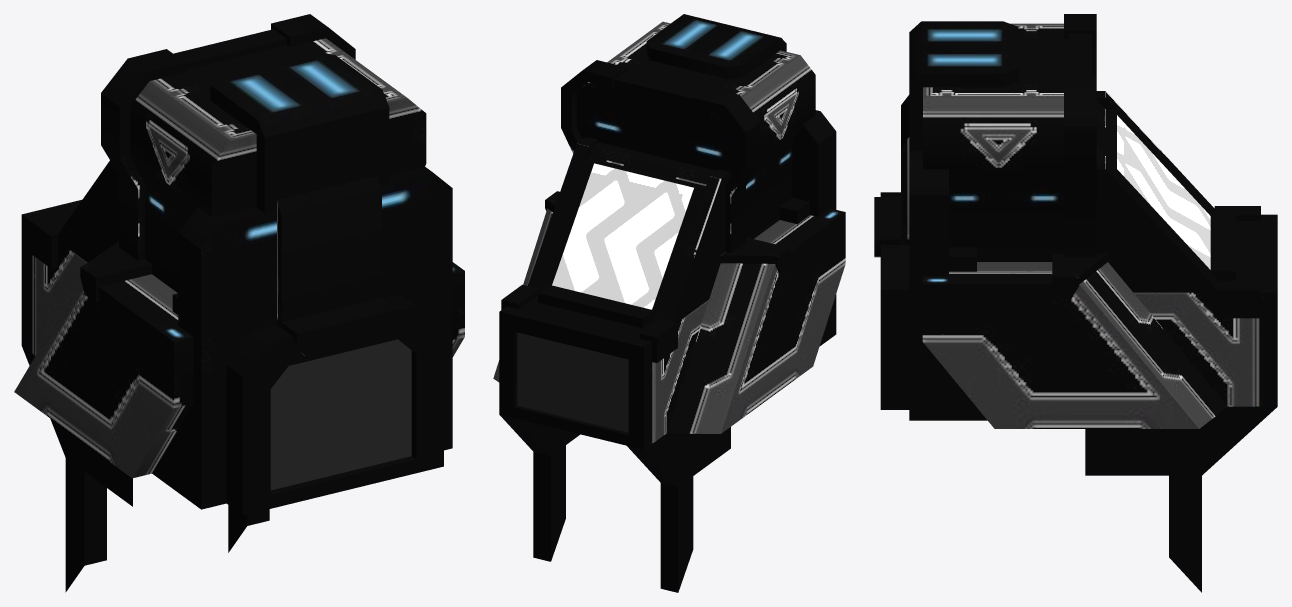
3 renders of one model, left to right at view 1: azimuth 30°, elevation 25°; view 2: azimuth 150°, elevation 25°; view 3: azimuth 270°, elevation 25°, orthographic. The views are drawn at different scales.
Visible parts, largest first — view 1: piler; view 2: piler; view 3: piler.
Part boxes in pixels (box(x1,y1,x2,y2)): piler: box(14, 14, 464, 592); piler: box(493, 14, 845, 592); piler: box(874, 14, 1277, 592).
Bounding box in the file's own units: 2.25 × 4.22 × 3.05.
Materials: 3 (2 with a texture image).
